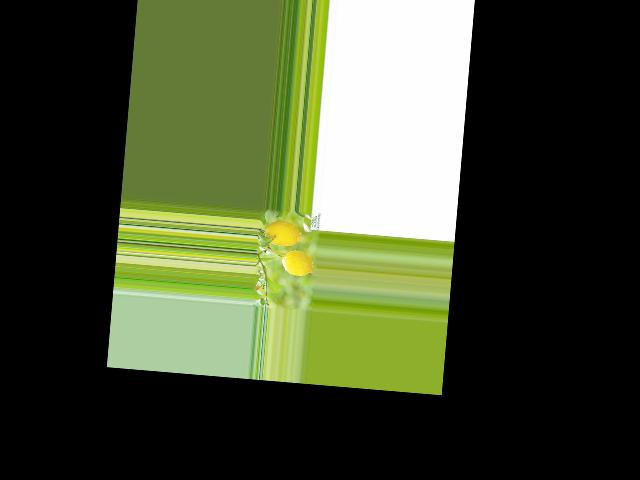lemon: (262, 217, 304, 250)
